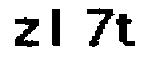7: (82, 7, 114, 49)
l: (45, 6, 72, 50)
t: (114, 12, 138, 49)
z: (9, 15, 40, 48)
